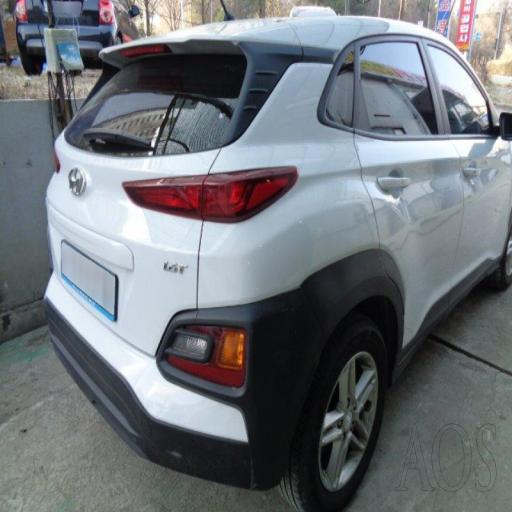dent: (333, 96, 498, 252)
